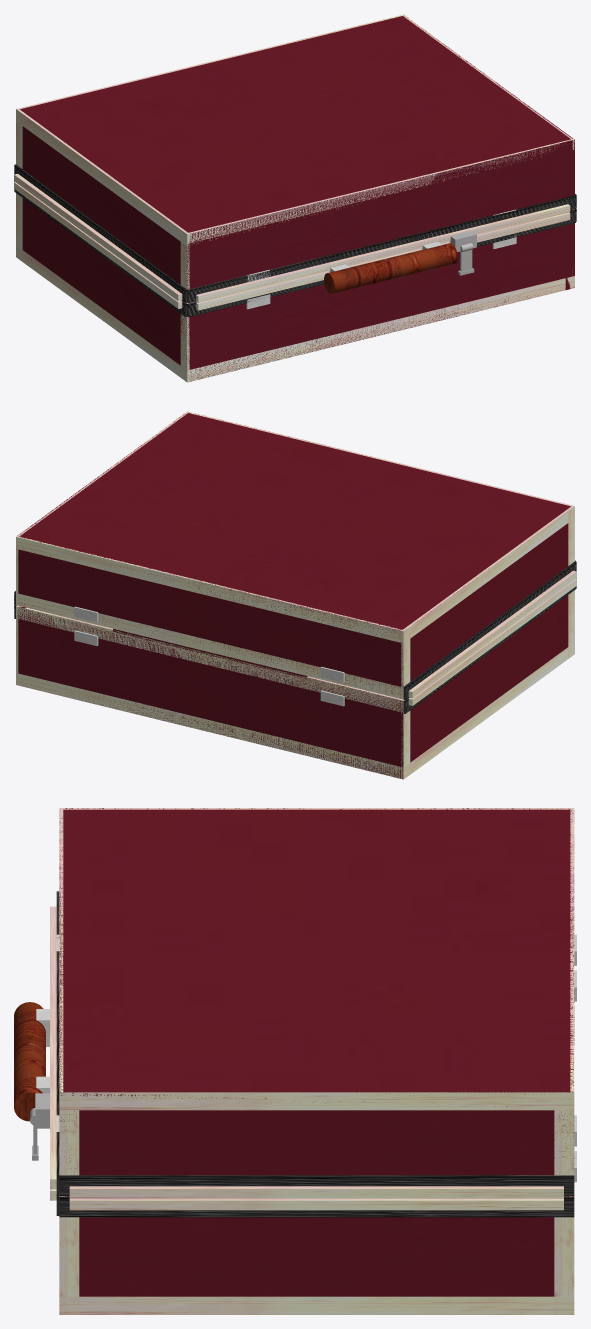
Rendered from Bag_Suitcase_Suitcase__0022.glb.
3 views of the same model, one above another, from view 1: azimuth 30°, elevation 25°; view 2: azimuth 150°, elevation 25°; view 3: azimuth 270°, elevation 25° (orthographic). The views are drawn at different scales.
Parts seen in each view (by area): view 1: suitcase_lid::shell_panel, suitcase_body::wall_front, suitcase_lid::wall_front, suitcase_body::wall_left, suitcase_lid::wall_left, suitcase_body::body_band_0, suitcase_lid::lid_band_1, suitcase_lid::zip_teeth_0, suitcase_lid::zip_tape_0, suitcase_body::handle_grip, suitcase_lid::lid_band_5, suitcase_body::body_band_4 (+8 smaller); view 2: suitcase_lid::shell_panel, suitcase_body::wall_back, suitcase_lid::wall_back, suitcase_body::wall_left, suitcase_lid::wall_left, suitcase_lid::lid_band_3, suitcase_body::body_band_3, suitcase_body::body_band_2, suitcase_lid::lid_band_2, suitcase_lid::lid_band_5, suitcase_body::body_band_4, suitcase_lid::zip_teeth_1 (+8 smaller); view 3: suitcase_lid::shell_panel, suitcase_body::wall_right, suitcase_lid::wall_right, suitcase_body::body_band_6, suitcase_lid::lid_band_7, suitcase_lid::zip_teeth_2, suitcase_body::zip_teeth_2, suitcase_lid::zip_tape_2, suitcase_body::zip_tape_2, suitcase_body::handle_grip, suitcase_lid::zip_teeth_0, suitcase_body::body_band_11 (+7 smaller).
Part boxes in pixels (left/top/right/bottom): suitcase_lid::shell_panel: left=20, top=16, right=574, bottom=243; suitcase_body::wall_front: left=187, top=223, right=574, bottom=381; suitcase_lid::wall_front: left=187, top=149, right=574, bottom=289; suitcase_body::wall_left: left=22, top=198, right=196, bottom=366; suitcase_lid::wall_left: left=22, top=126, right=195, bottom=288; suitcase_body::body_band_0: left=187, top=276, right=574, bottom=382; suitcase_lid::lid_band_1: left=186, top=139, right=573, bottom=243; suitcase_lid::zip_teeth_0: left=196, top=204, right=570, bottom=302; suitcase_lid::zip_tape_0: left=187, top=195, right=575, bottom=303; suitcase_body::handle_grip: left=324, top=243, right=457, bottom=293; suitcase_lid::lid_band_5: left=16, top=109, right=189, bottom=246; suitcase_body::body_band_4: left=16, top=245, right=187, bottom=382; suitcase_lid::shell_panel: left=17, top=412, right=570, bottom=637; suitcase_body::wall_back: left=17, top=608, right=403, bottom=777; suitcase_lid::wall_back: left=18, top=549, right=403, bottom=694; suitcase_body::wall_left: left=394, top=595, right=568, bottom=776; suitcase_lid::wall_left: left=394, top=523, right=568, bottom=686; suitcase_lid::lid_band_3: left=16, top=536, right=404, bottom=643; suitcase_body::body_band_3: left=16, top=605, right=404, bottom=712; suitcase_body::body_band_2: left=18, top=673, right=403, bottom=779; suitcase_lid::lid_band_2: left=16, top=593, right=403, bottom=699; suitcase_lid::lid_band_5: left=401, top=505, right=574, bottom=642; suitcase_body::body_band_4: left=403, top=642, right=574, bottom=779; suitcase_lid::zip_teeth_1: left=408, top=570, right=576, bottom=698; suitcase_lid::shell_panel: left=59, top=808, right=574, bottom=1106; suitcase_body::wall_right: left=61, top=1196, right=569, bottom=1296; suitcase_lid::wall_right: left=64, top=1110, right=566, bottom=1175; suitcase_body::body_band_6: left=59, top=1296, right=574, bottom=1314; suitcase_lid::lid_band_7: left=59, top=1092, right=574, bottom=1110; suitcase_lid::zip_teeth_2: left=69, top=1186, right=563, bottom=1198; suitcase_body::zip_teeth_2: left=69, top=1198, right=563, bottom=1210; suitcase_lid::zip_tape_2: left=59, top=1175, right=574, bottom=1195; suitcase_body::zip_tape_2: left=59, top=1196, right=574, bottom=1217; suitcase_body::handle_grip: left=14, top=1002, right=45, bottom=1121; suitcase_lid::zip_teeth_0: left=50, top=906, right=56, bottom=1189; suitcase_body::body_band_11: left=554, top=1196, right=574, bottom=1314.
Bounding box in the file's own units: 0.5175 × 0.1839 × 0.4214.
Materials: 6 (5 with a texture image).
